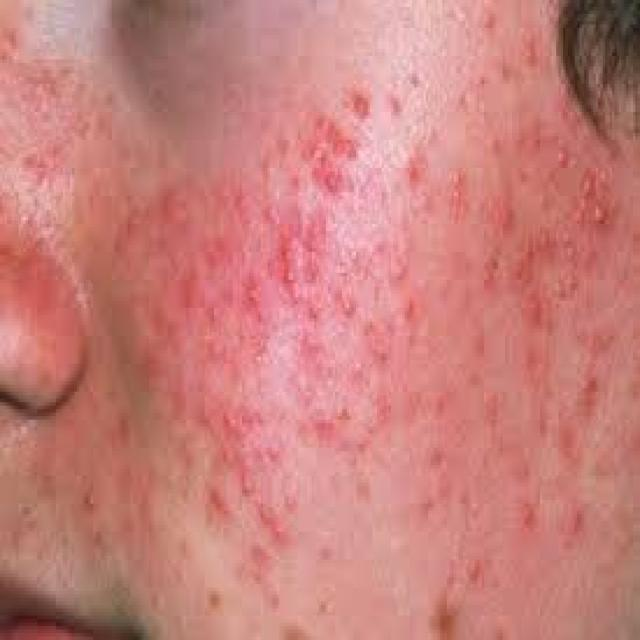Acne: (182, 129, 348, 586), (391, 129, 617, 295)
